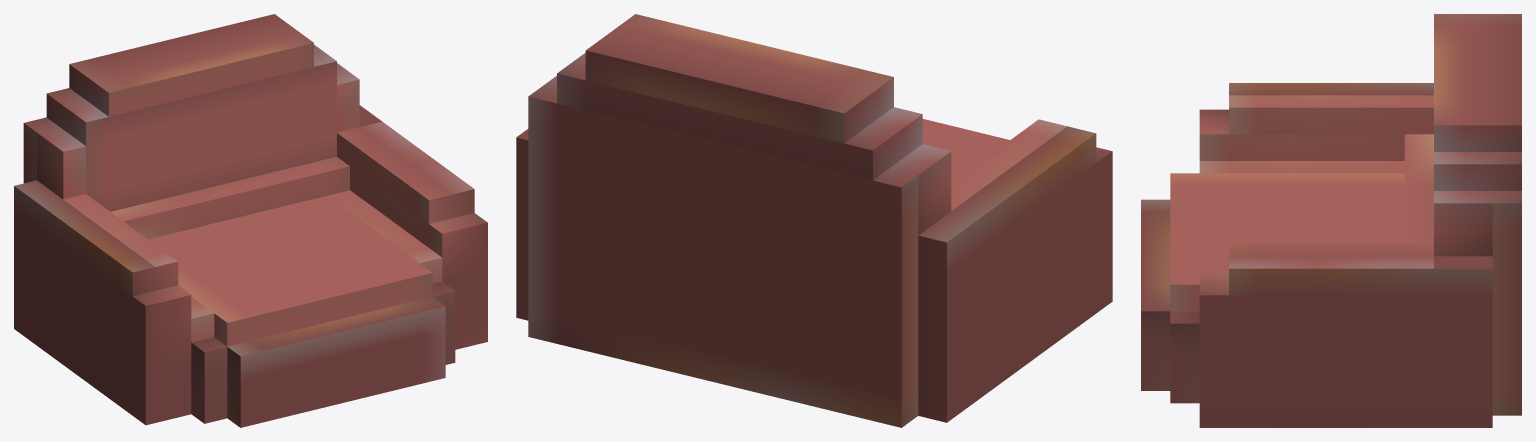
The model's file is CouchBeanRed_00.obj.
3 renders of one model, left to right at view 1: azimuth 30°, elevation 25°; view 2: azimuth 150°, elevation 25°; view 3: azimuth 270°, elevation 25°, orthographic. The views are drawn at different scales.
Parts seen in each view (by area): view 1: CouchBeanRed_00; view 2: CouchBeanRed_00; view 3: CouchBeanRed_00.
Boxes of the visible parts, <box> form: CouchBeanRed_00: <box>14,14,487,427</box>; CouchBeanRed_00: <box>516,14,1112,427</box>; CouchBeanRed_00: <box>1141,14,1521,427</box>.
Bounding box in the file's own units: 0.75 × 0.5 × 0.65.
